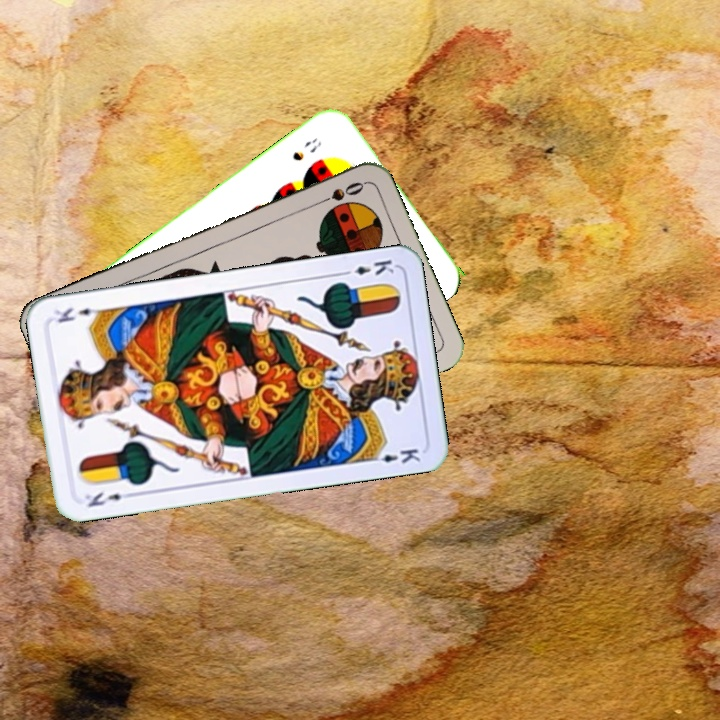EK: (337, 255, 397, 278), (80, 488, 136, 510)
S8: (288, 133, 325, 164)
SO: (310, 177, 367, 209)
